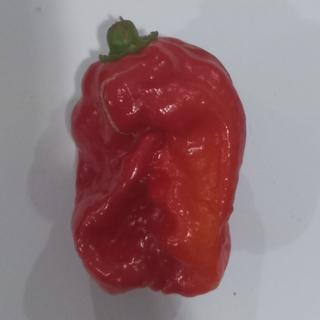Grade-A: (65, 40, 251, 302)
